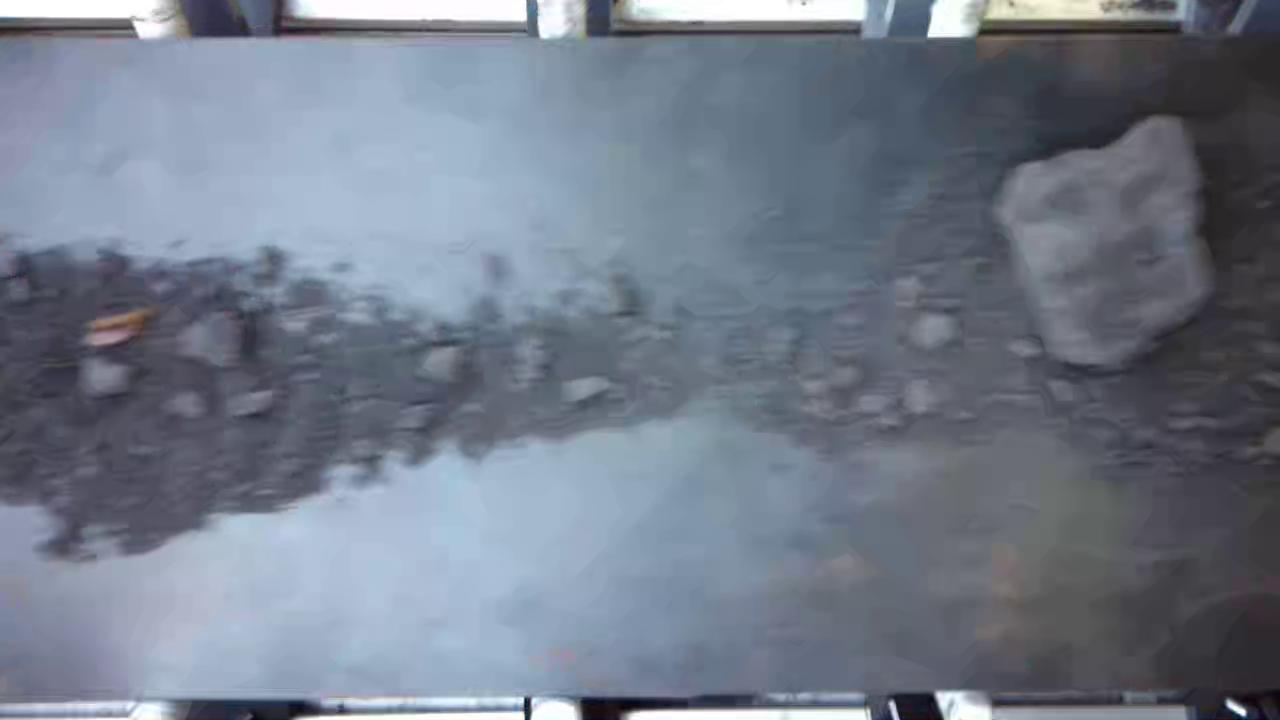conveyor: (5, 44, 1273, 674)
